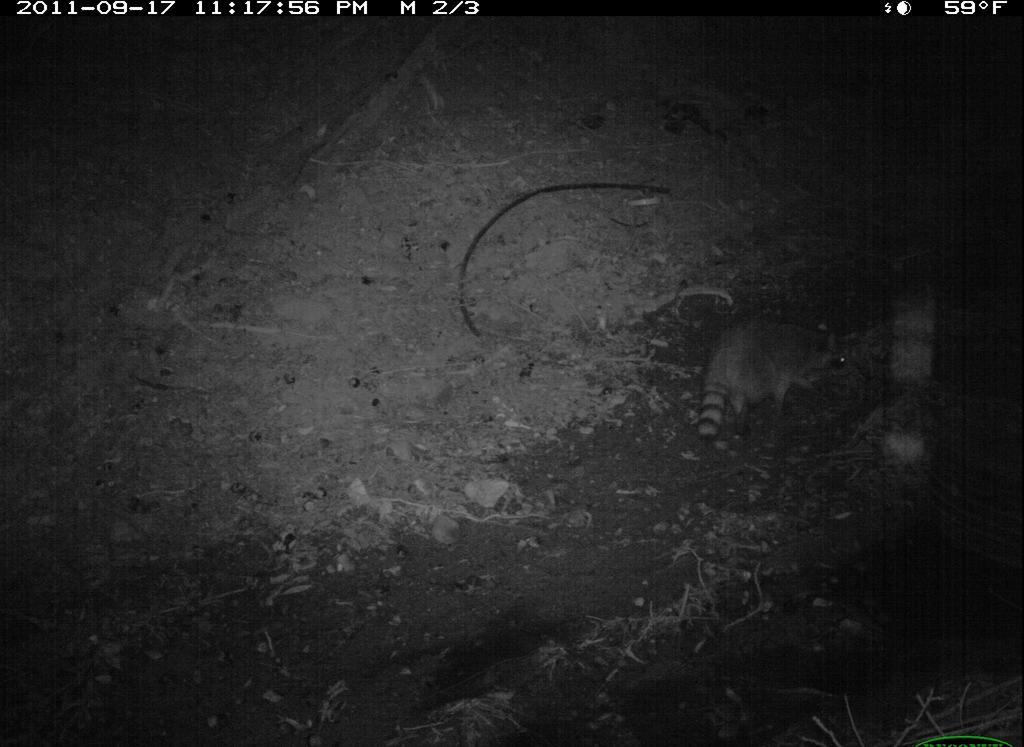raccoon: (689, 307, 859, 445)
